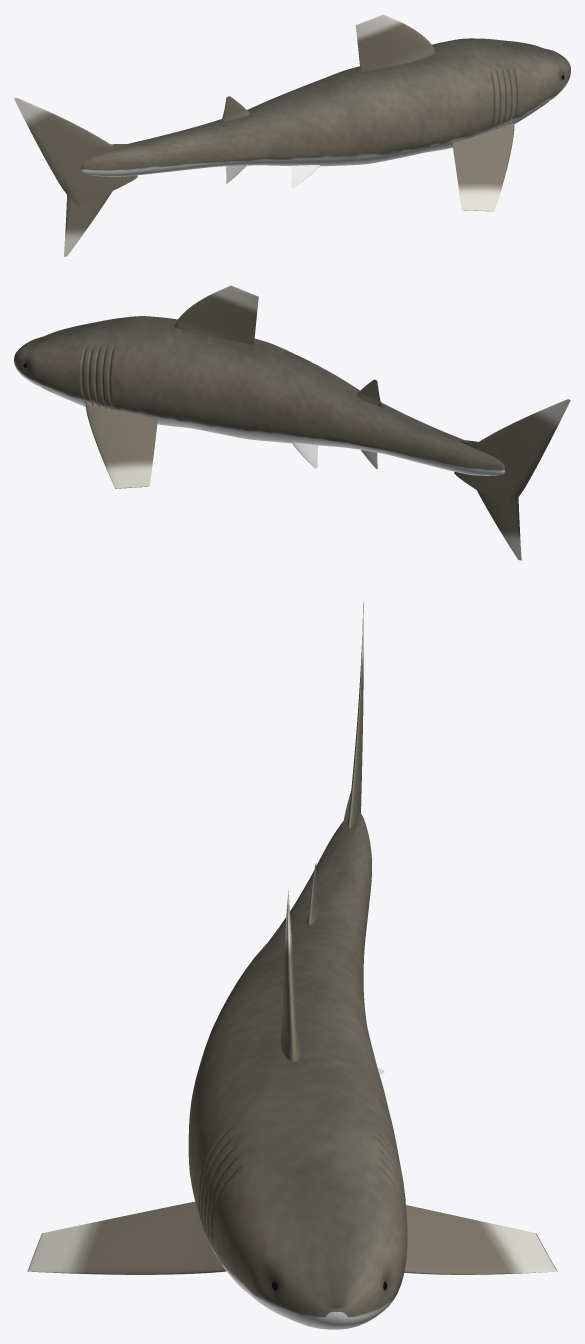
Rendered from oceanic_whitetip.glb.
The picture shows the model from 3 angles, top to bottom: view 1: azimuth 30°, elevation 25°; view 2: azimuth 150°, elevation 25°; view 3: azimuth 270°, elevation 25°; orthographic projection. The views are drawn at different scales.
Parts seen in each view (by area): view 1: OceanicWhitetipShark_Body, OceanicWhitetipShark_Fins; view 2: OceanicWhitetipShark_Body, OceanicWhitetipShark_Fins; view 3: OceanicWhitetipShark_Body, OceanicWhitetipShark_Fins.
Part boxes in pixels (x1=…): OceanicWhitetipShark_Body: x1=81, y1=38, x2=570, y2=176; OceanicWhitetipShark_Fins: x1=14, y1=14, x2=514, y2=256; OceanicWhitetipShark_Body: x1=14, y1=316, x2=504, y2=475; OceanicWhitetipShark_Fins: x1=85, y1=285, x2=570, y2=560; OceanicWhitetipShark_Body: x1=188, y1=812, x2=407, y2=1329; OceanicWhitetipShark_Fins: x1=27, y1=601, x2=557, y2=1274.
Bounding box in the file's own units: 2.7 × 0.8597 × 1.13.
3 materials, 1 textured.
